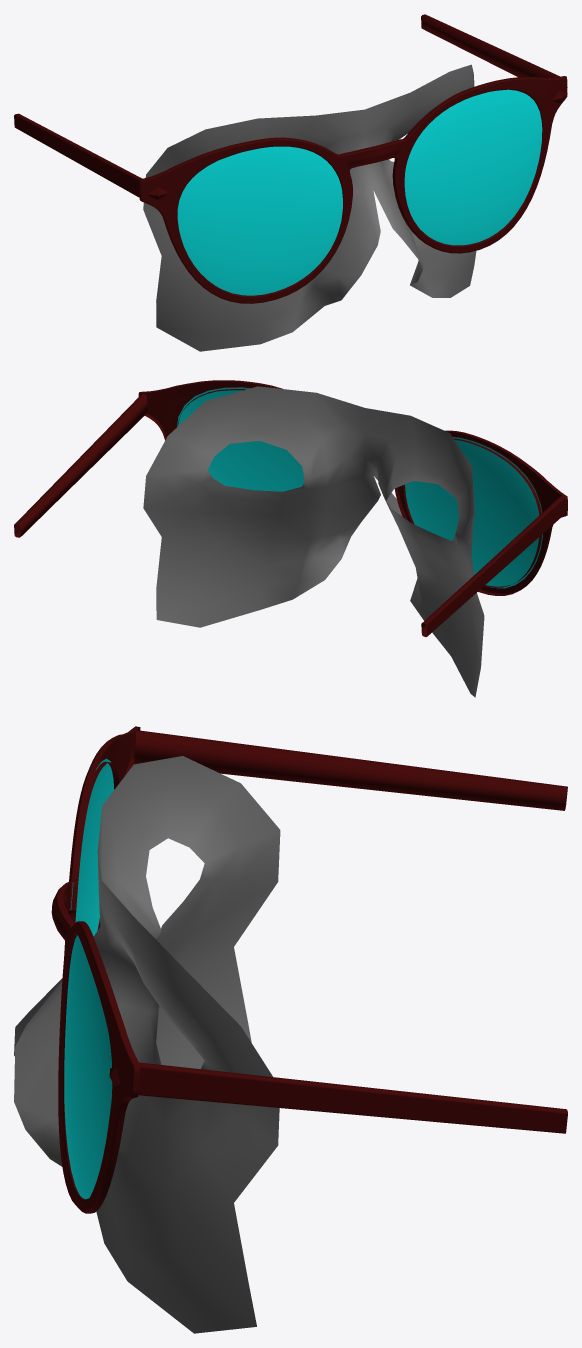
The model's file is glasses_Doggy.fbx.
3 views of the same model, one above another, from view 1: azimuth 30°, elevation 25°; view 2: azimuth 150°, elevation 25°; view 3: azimuth 270°, elevation 25° (orthographic). The views are drawn at different scales.
Parts seen in each view (by area): view 1: glasses_Doggy, geo_shadow; view 2: geo_shadow, glasses_Doggy; view 3: geo_shadow, glasses_Doggy.
Boxes of the visible parts, <box> form: glasses_Doggy: <box>14,14,567,303</box>; geo_shadow: <box>143,64,476,351</box>; geo_shadow: <box>143,386,484,697</box>; glasses_Doggy: <box>14,380,567,636</box>; geo_shadow: <box>14,756,280,1333</box>; glasses_Doggy: <box>51,726,567,1213</box>.
Size of the model in its own units: 174 by 91.94 by 120.
